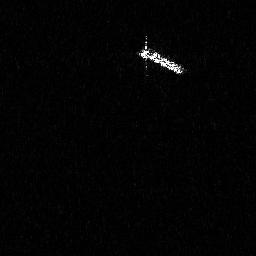ship: (138, 34, 186, 77)
